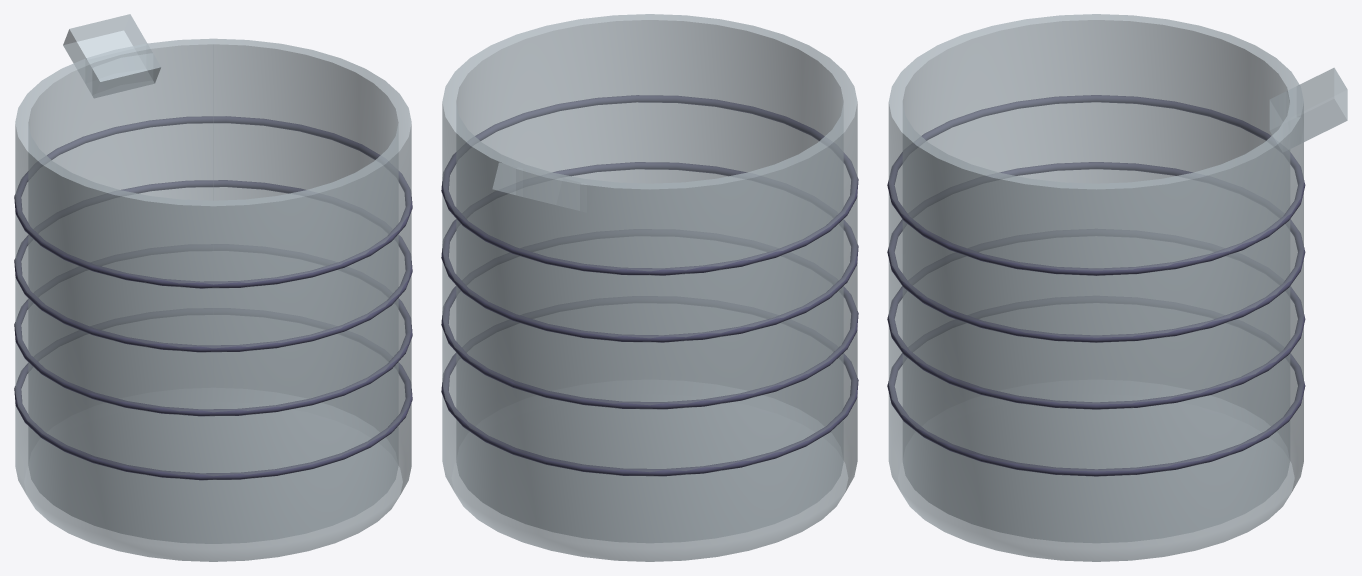
The model's file is beaker.glb.
3 renders of one model, left to right at view 1: azimuth 30°, elevation 25°; view 2: azimuth 150°, elevation 25°; view 3: azimuth 270°, elevation 25°, orthographic. The views are drawn at different scales.
Parts seen in each view (by area): view 1: beaker; view 2: beaker; view 3: beaker.
Boxes of the visible parts, box(x1,y1,x2,y2) form: beaker: box(14, 14, 412, 561); beaker: box(441, 14, 858, 561); beaker: box(887, 14, 1347, 561).
Size of the model in its own units: 0.906 by 0.9447 by 0.9976.
